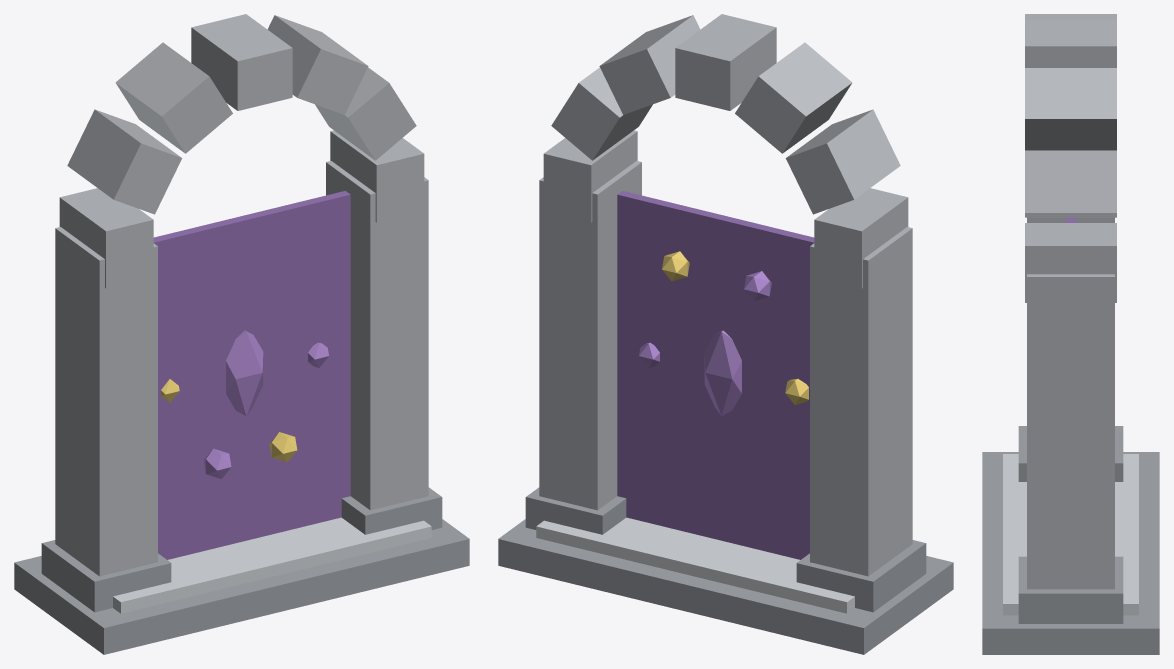
Rendered from animprop_portal_00.glb.
3 views of the same model, side by side, from view 1: azimuth 30°, elevation 25°; view 2: azimuth 150°, elevation 25°; view 3: azimuth 270°, elevation 25° (orthographic).
Visible parts, largest first — view 1: animprop; view 2: animprop; view 3: animprop.
Part boxes in pixels (x1,y1,x2,y2): animprop: [14, 14, 469, 654]; animprop: [498, 14, 953, 654]; animprop: [982, 14, 1159, 654].
Size of the model in its own units: 2 by 2.82 by 0.85.
